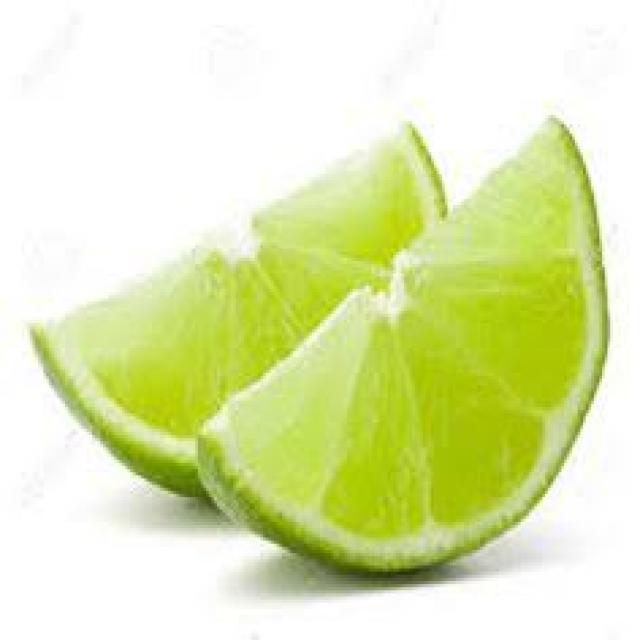organic waste: (195, 106, 608, 568), (27, 118, 445, 500)
